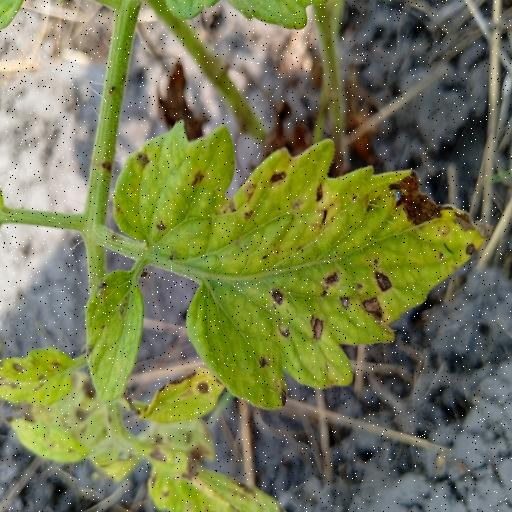Tomato_Brown_Spots: (87, 121, 495, 419)
